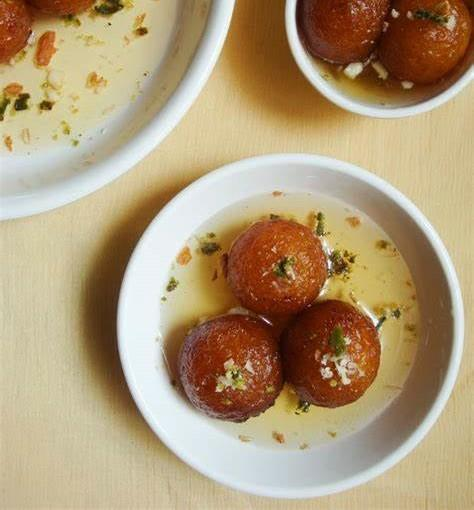GulabJamun: (278, 296, 383, 410), (176, 315, 278, 421), (228, 217, 329, 318), (383, 0, 471, 82), (297, 0, 388, 59)
